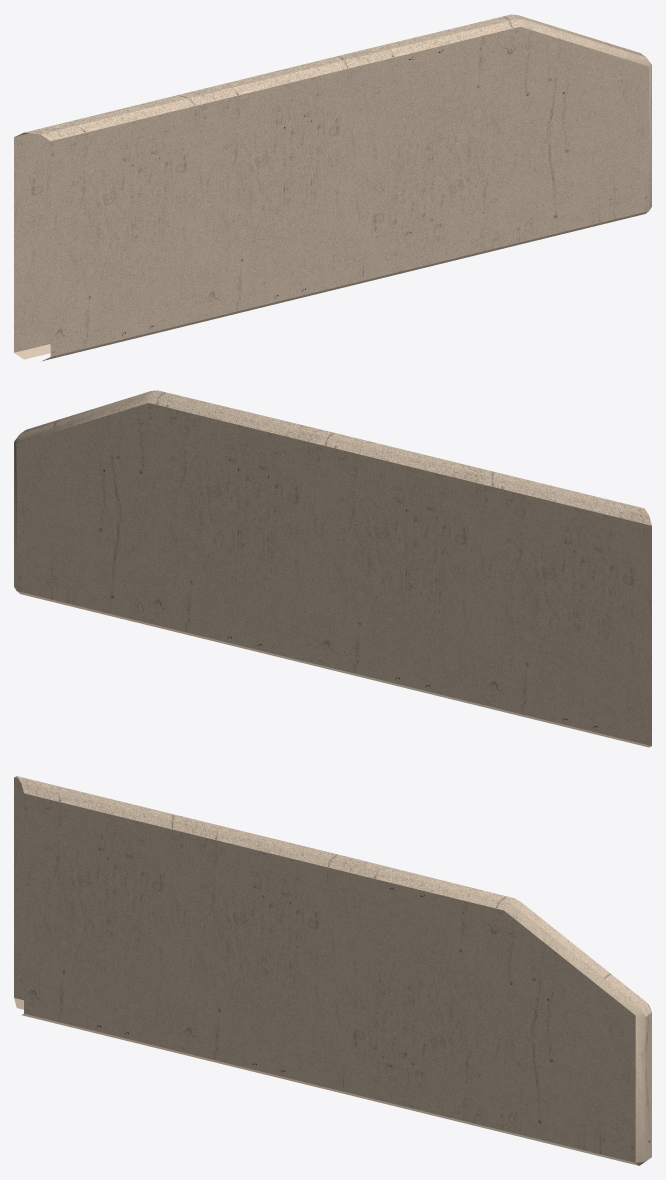
Rendered from Wall09_fix.FBX.
3 renders of one model, top to bottom at view 1: azimuth 30°, elevation 25°; view 2: azimuth 150°, elevation 25°; view 3: azimuth 330°, elevation 25°, orthographic. The views are drawn at different scales.
Visible parts, largest first — view 1: Wall09; view 2: Wall09; view 3: Wall09.
Boxes of the visible parts, bbox=[...] form: Wall09: bbox=[14, 14, 651, 360]; Wall09: bbox=[14, 390, 651, 747]; Wall09: bbox=[14, 776, 651, 1165].
Size of the model in its own units: 945 by 326 by 35.
